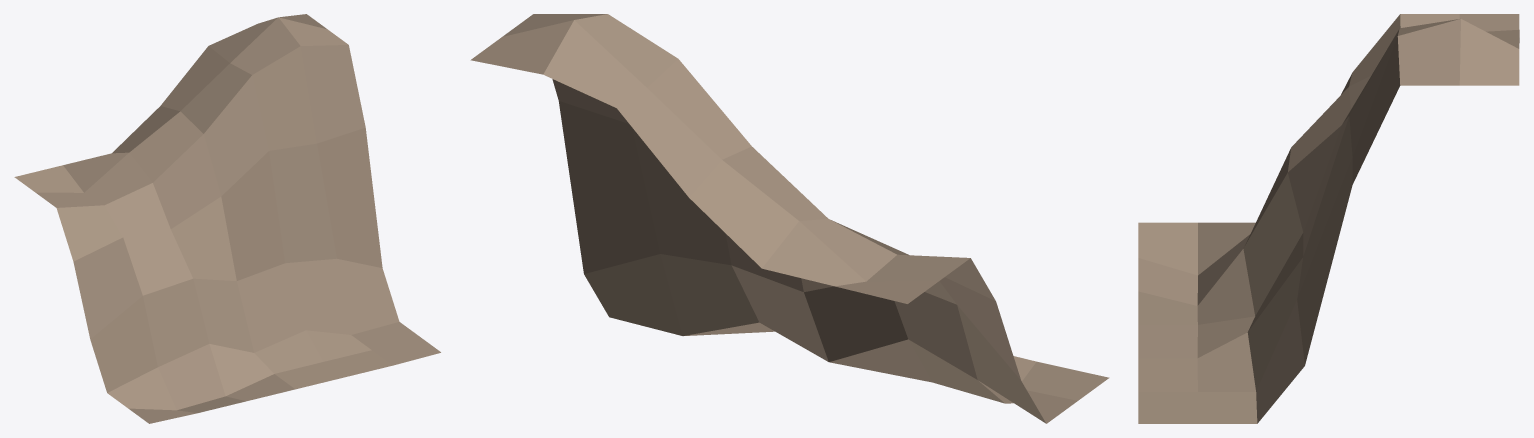
The model's file is Groborchik_RiverBank_Trans_Down5-3.fbx.
3 views of the same model, side by side, from view 1: azimuth 30°, elevation 25°; view 2: azimuth 150°, elevation 25°; view 3: azimuth 270°, elevation 25° (orthographic). The views are drawn at different scales.
Visible parts, largest first — view 1: Trans_Down5-3; view 2: Trans_Down5-3; view 3: Trans_Down5-3.
Boxes of the visible parts, x1,y1,x2,y2 form: Trans_Down5-3: (14,14,440,423); Trans_Down5-3: (470,14,1109,423); Trans_Down5-3: (1138,14,1519,423).
Bounding box in the file's own units: 1000 × 906 × 801.
